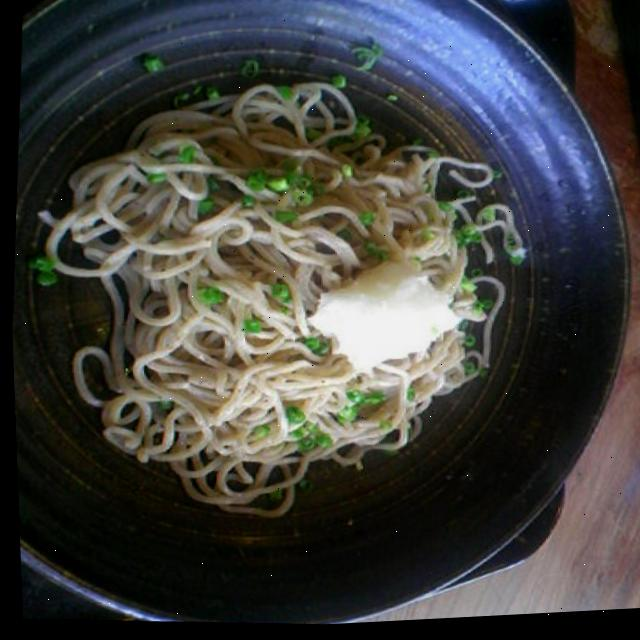面条主食: (41, 40, 544, 572)
